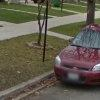Car: (46, 21, 100, 88)
